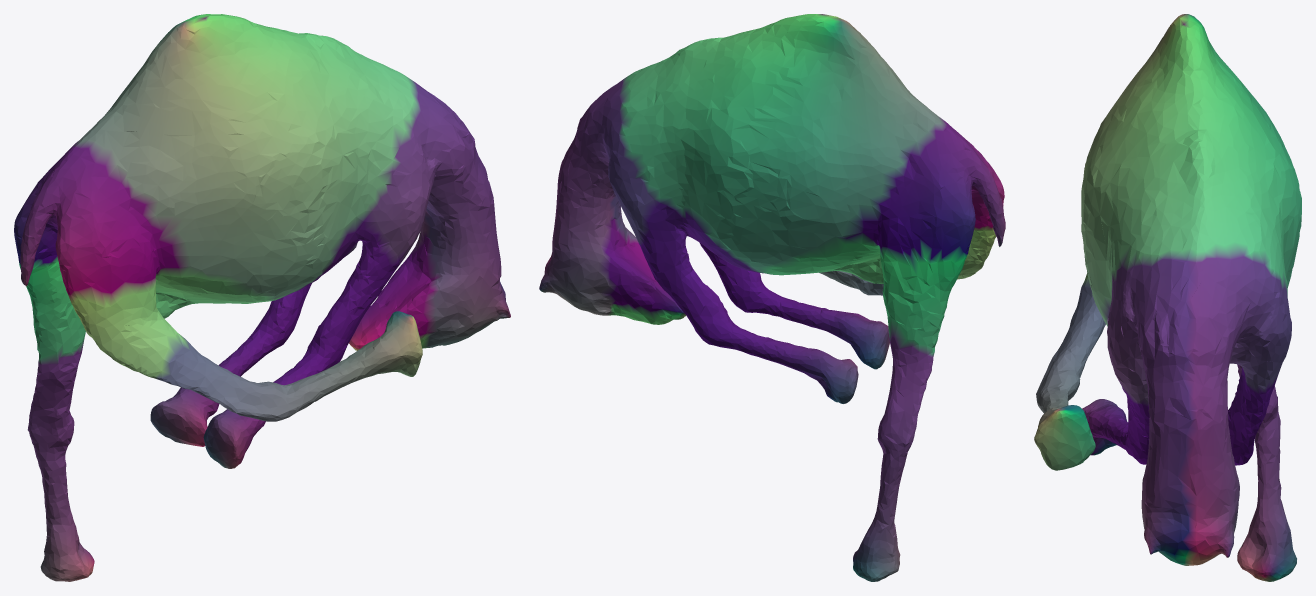
File: camel-19.off.obj
The picture shows the model from 3 angles, left to right: view 1: azimuth 30°, elevation 25°; view 2: azimuth 150°, elevation 25°; view 3: azimuth 270°, elevation 25°; orthographic projection. The views are drawn at different scales.
Bounding box in the file's own units: 1.25 × 1.38 × 0.5575.
